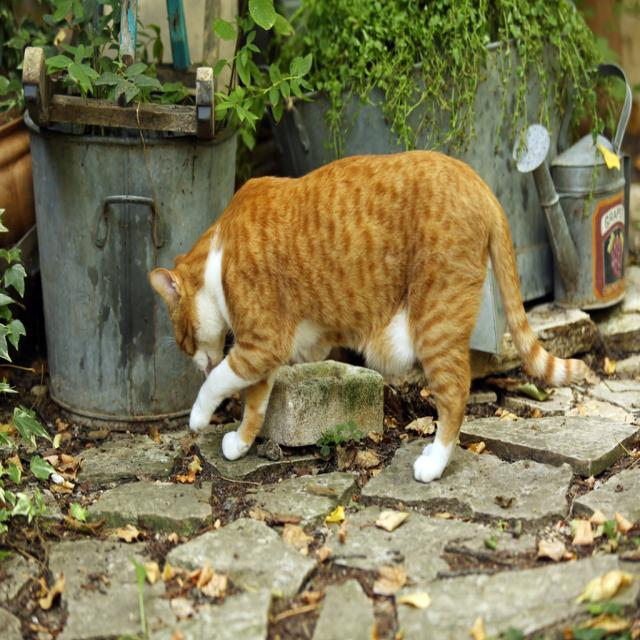Cat: (147, 145, 587, 481)
